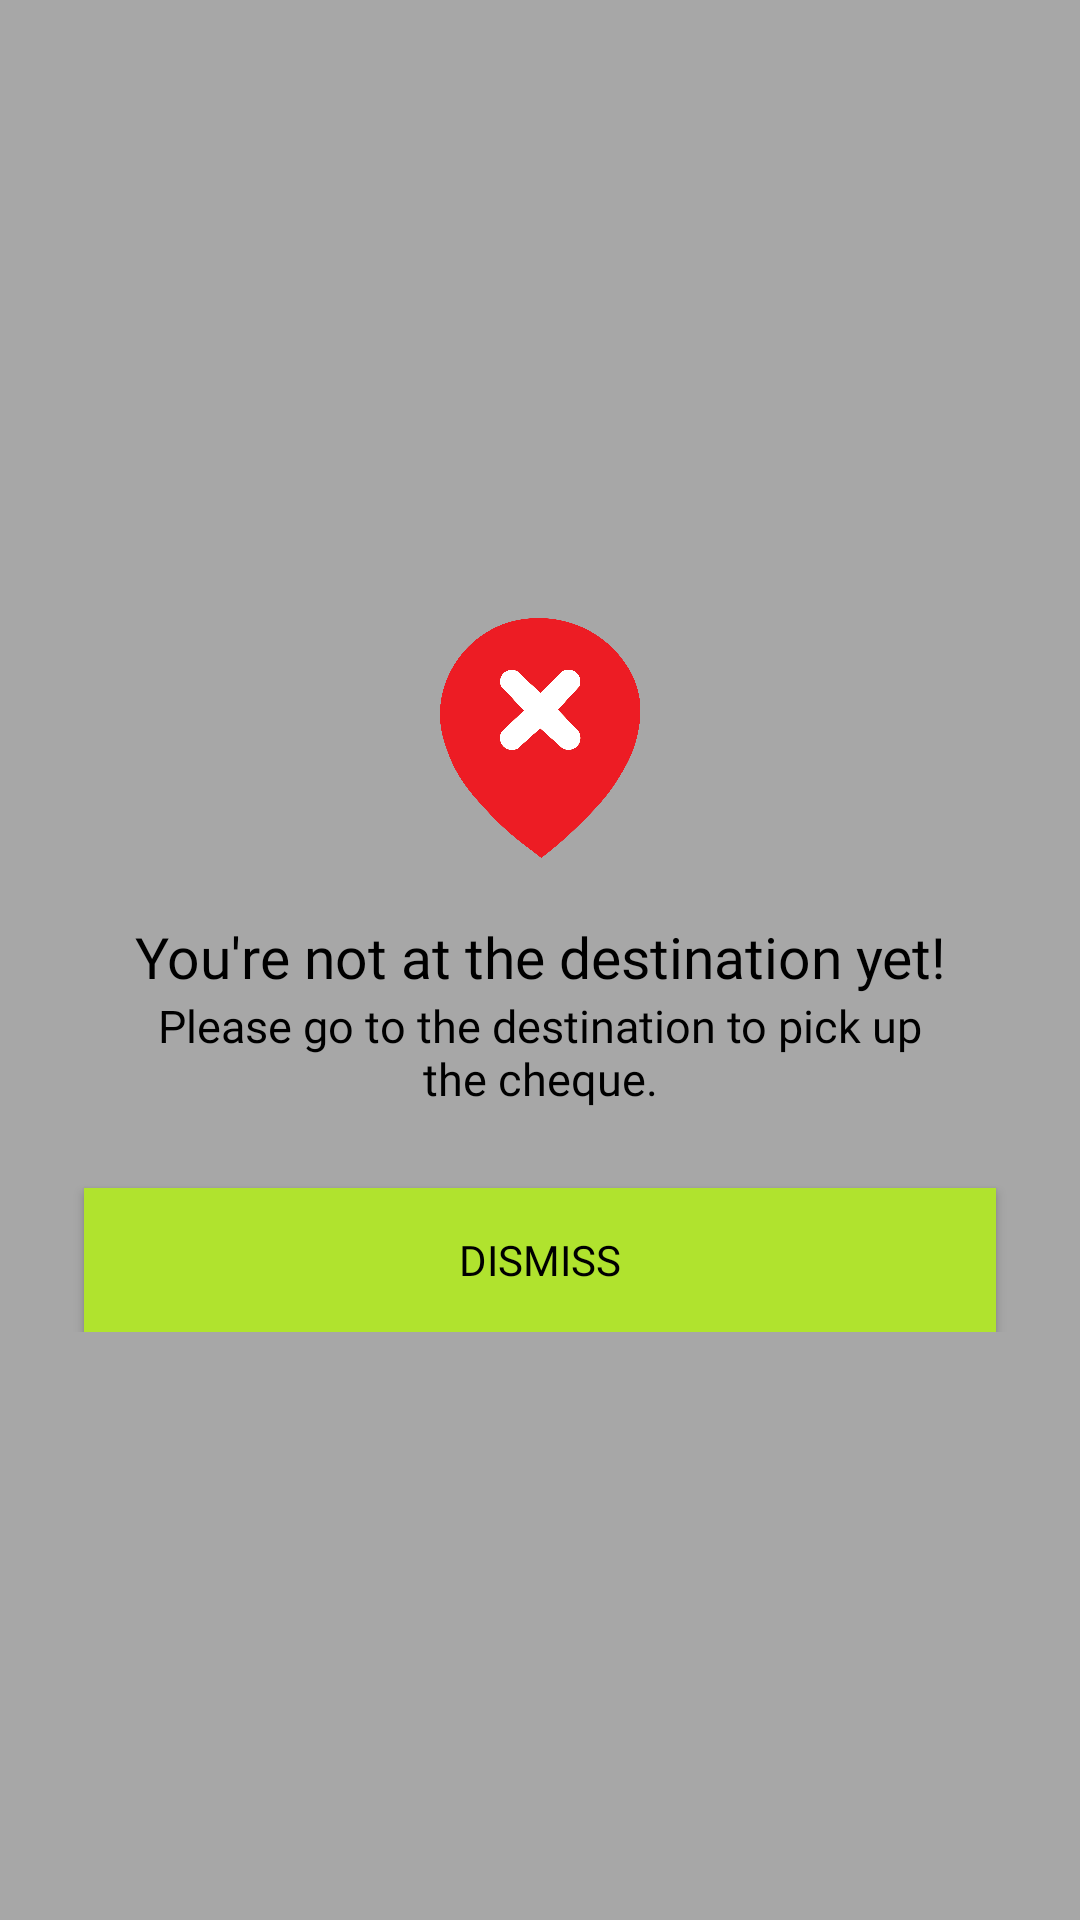

Named icons in this screenshot (1080px x 1920px) and their centers, (x=x, y=y):
not arrived: (x=540, y=738)
